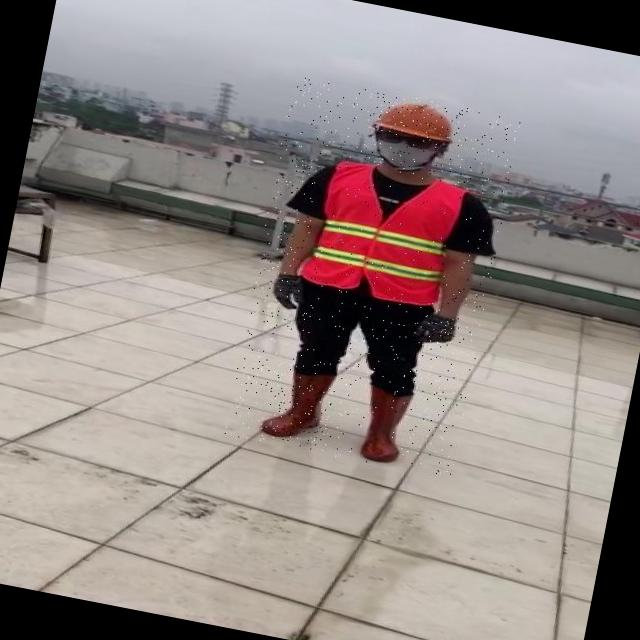boots: (255, 363, 336, 446), (351, 384, 418, 468)
helmet: (371, 94, 464, 148)
vest: (300, 157, 471, 310)
